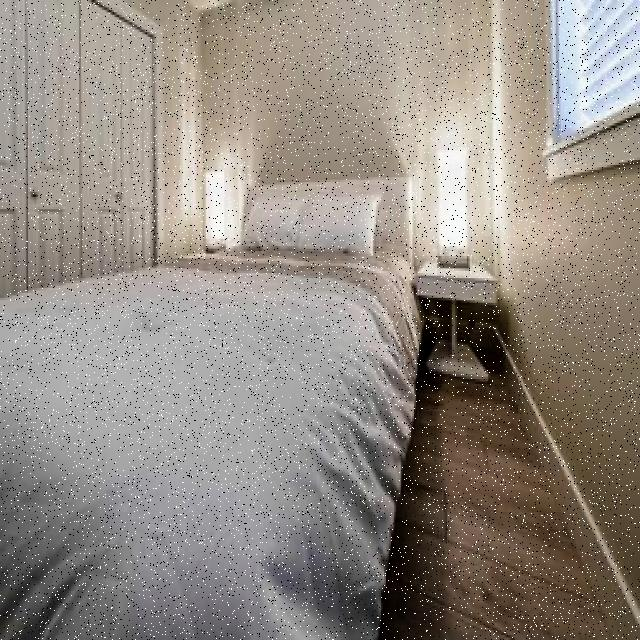bed: (0, 163, 423, 640)
